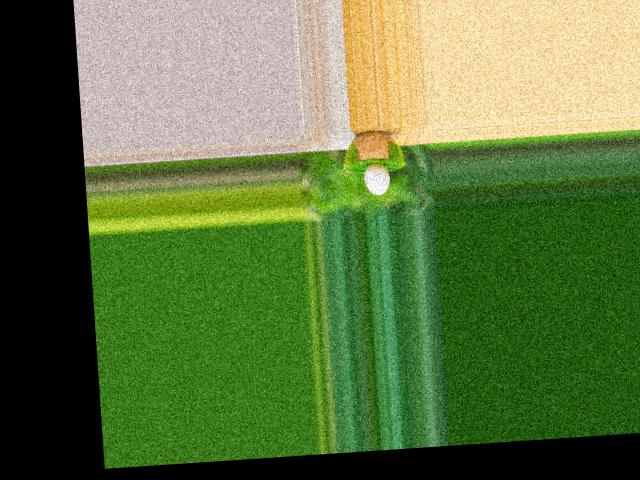egg: (362, 162, 389, 195)
